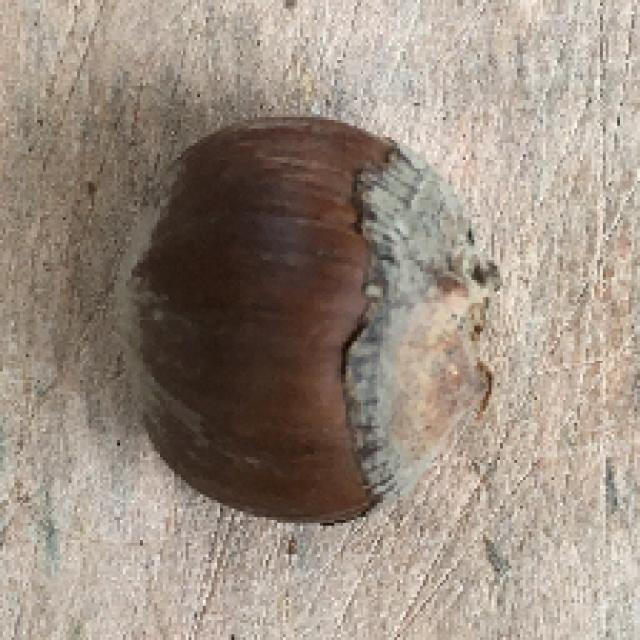damagedHazelnut: (108, 108, 495, 528)
